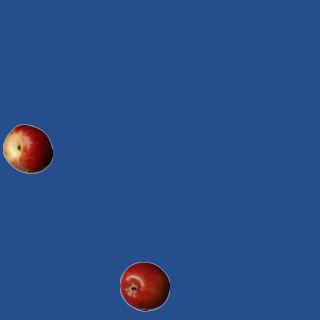Apple Braeburn: (119, 261, 169, 311)
Nectarine: (2, 123, 52, 173)
